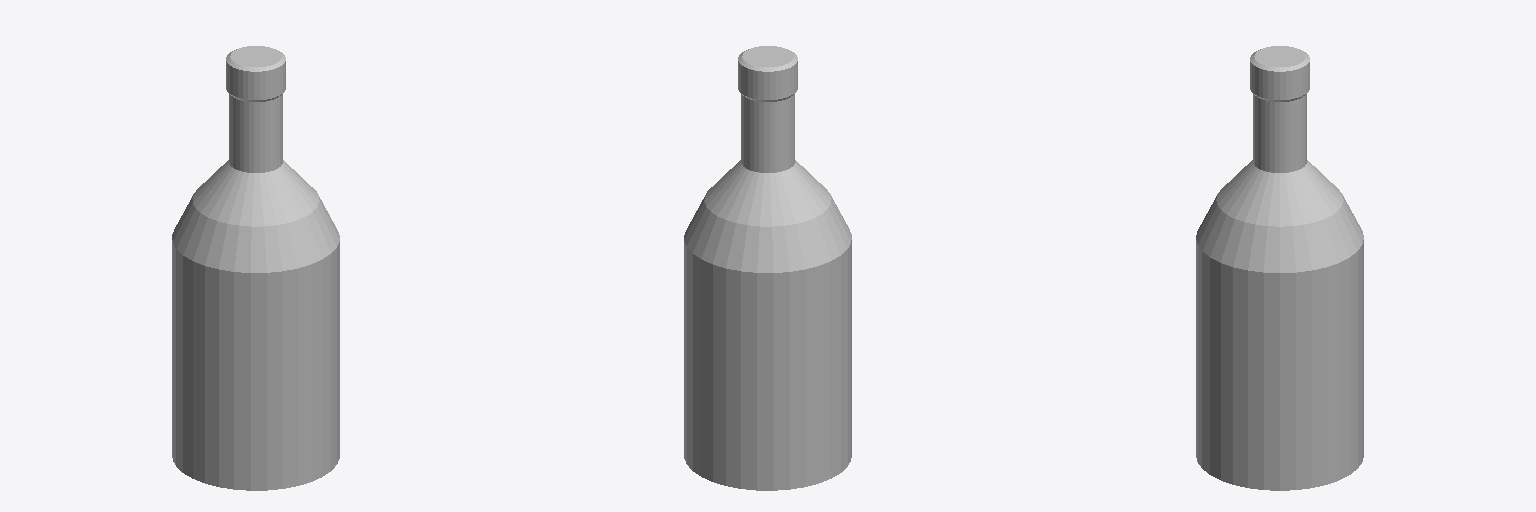
File: Bottle.obj
3 views of the same model, side by side, from view 1: azimuth 30°, elevation 25°; view 2: azimuth 150°, elevation 25°; view 3: azimuth 270°, elevation 25° (orthographic).
Visible parts, largest first — view 1: Flaska; view 2: Flaska; view 3: Flaska.
Boxes of the visible parts, <box> form: Flaska: <box>172,46,339,490</box>; Flaska: <box>684,46,851,490</box>; Flaska: <box>1196,46,1363,490</box>.
Bounding box in the file's own units: 0.14 × 0.3664 × 0.14.